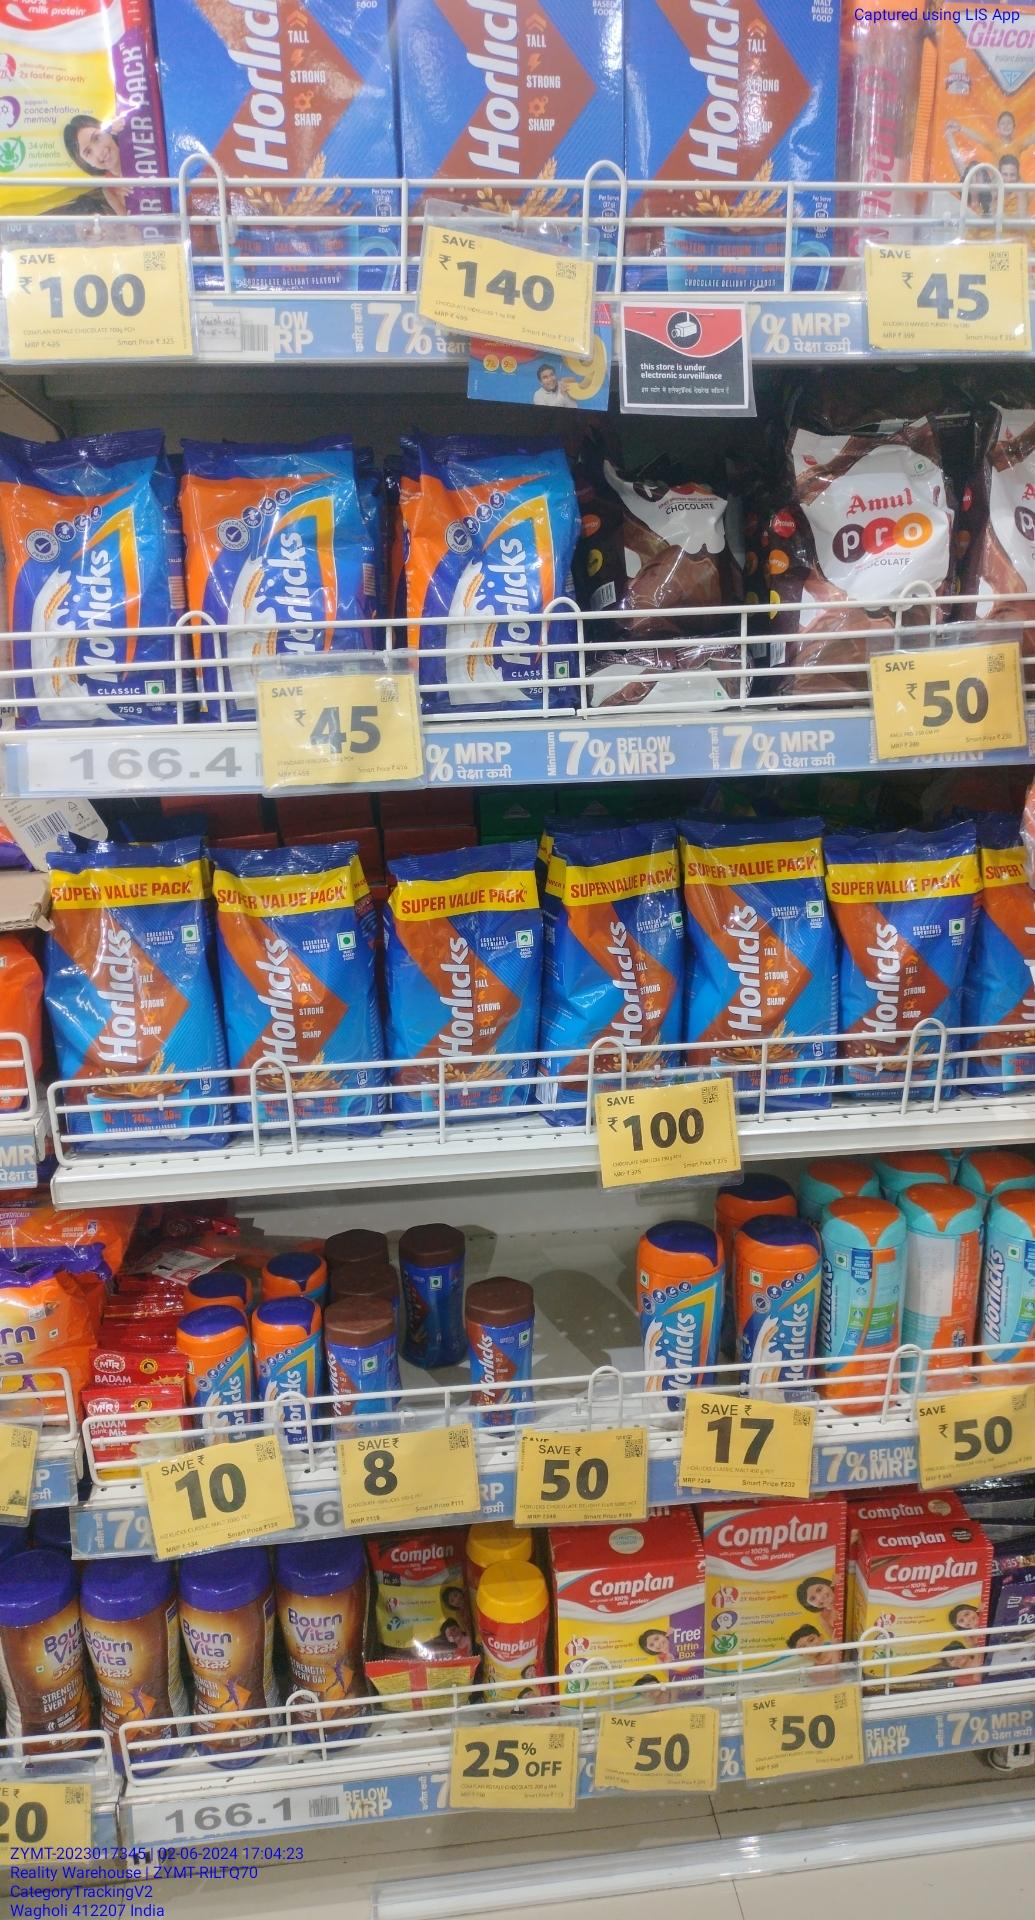BOURN_VITA_FIVE_STAR_MAGIC_500_G_JAR: (83, 1572, 177, 1779), (184, 1571, 274, 1765), (278, 1553, 361, 1747)
COMPLAN_CHOCOLATE_200_GMS_JAR: (477, 1582, 549, 1723)
COMPLAN_CREAMY_CLASSIC_500_G_PACK: (710, 1514, 848, 1686)
HORLICK_CHOCOLATE_200_G_JAR: (465, 1284, 537, 1428), (325, 1316, 398, 1435)
HORLICK_CHOCOLATE_750_G_POUCH: (51, 861, 208, 1145), (215, 850, 370, 1135), (389, 845, 529, 1116), (836, 842, 969, 1106), (548, 843, 686, 1082), (693, 837, 832, 1071)
HORLICK_CLASSIC_MALT_200_G_JAR: (255, 1311, 320, 1440), (189, 1321, 252, 1438)
HORLICK_CLASSIC_MALT_500_G_JAR: (636, 1228, 725, 1387), (737, 1227, 818, 1391)
